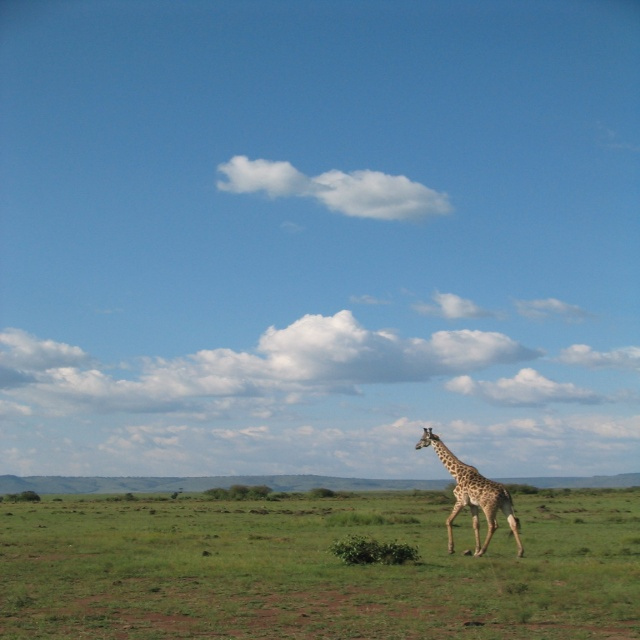Giraffe: (416, 427, 526, 558)
